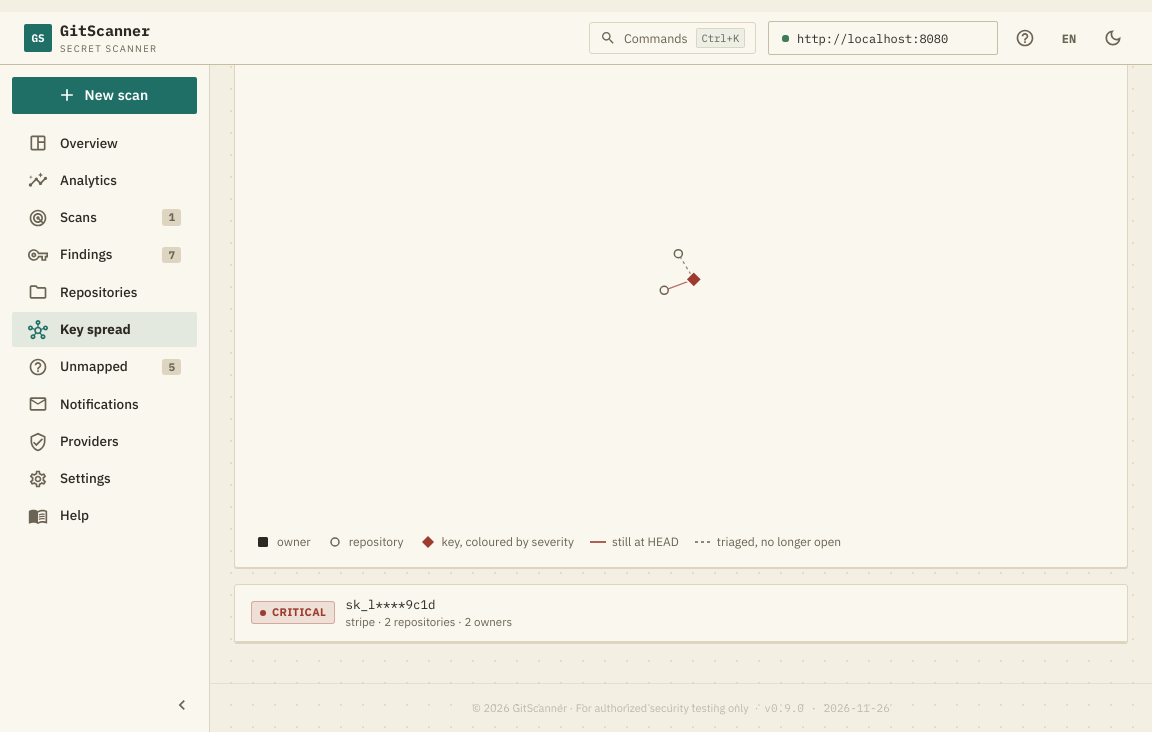
Test: key spread › lists a shared key and opens its repositories from the list
(page scrolled)
Expected: the text "stripe · 2 repositories · 2 owners" is shown, [345,614,512,629]
Step 1. Click the button "critical sk_l****9c1d stripe · 2 repositories · 2 owners" → (293, 613), box [235,585,1127,642]
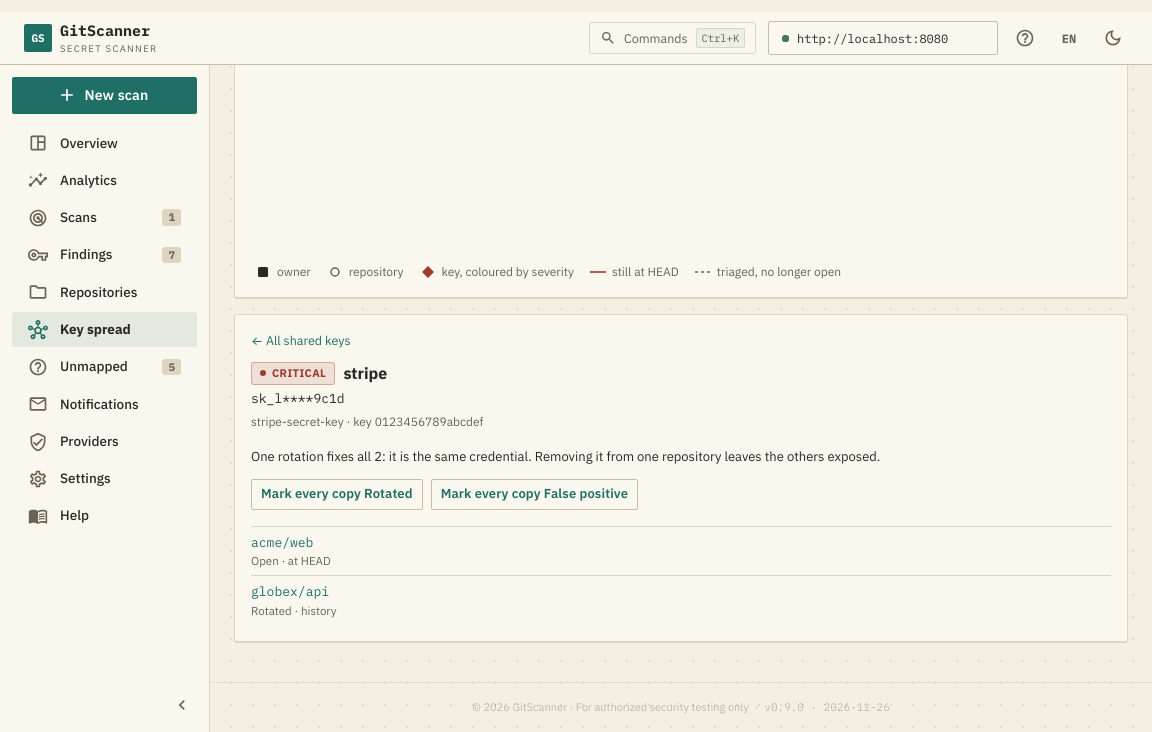
Expected: the text "One rotation fixes all 2" is shown, [251,448,880,465]
